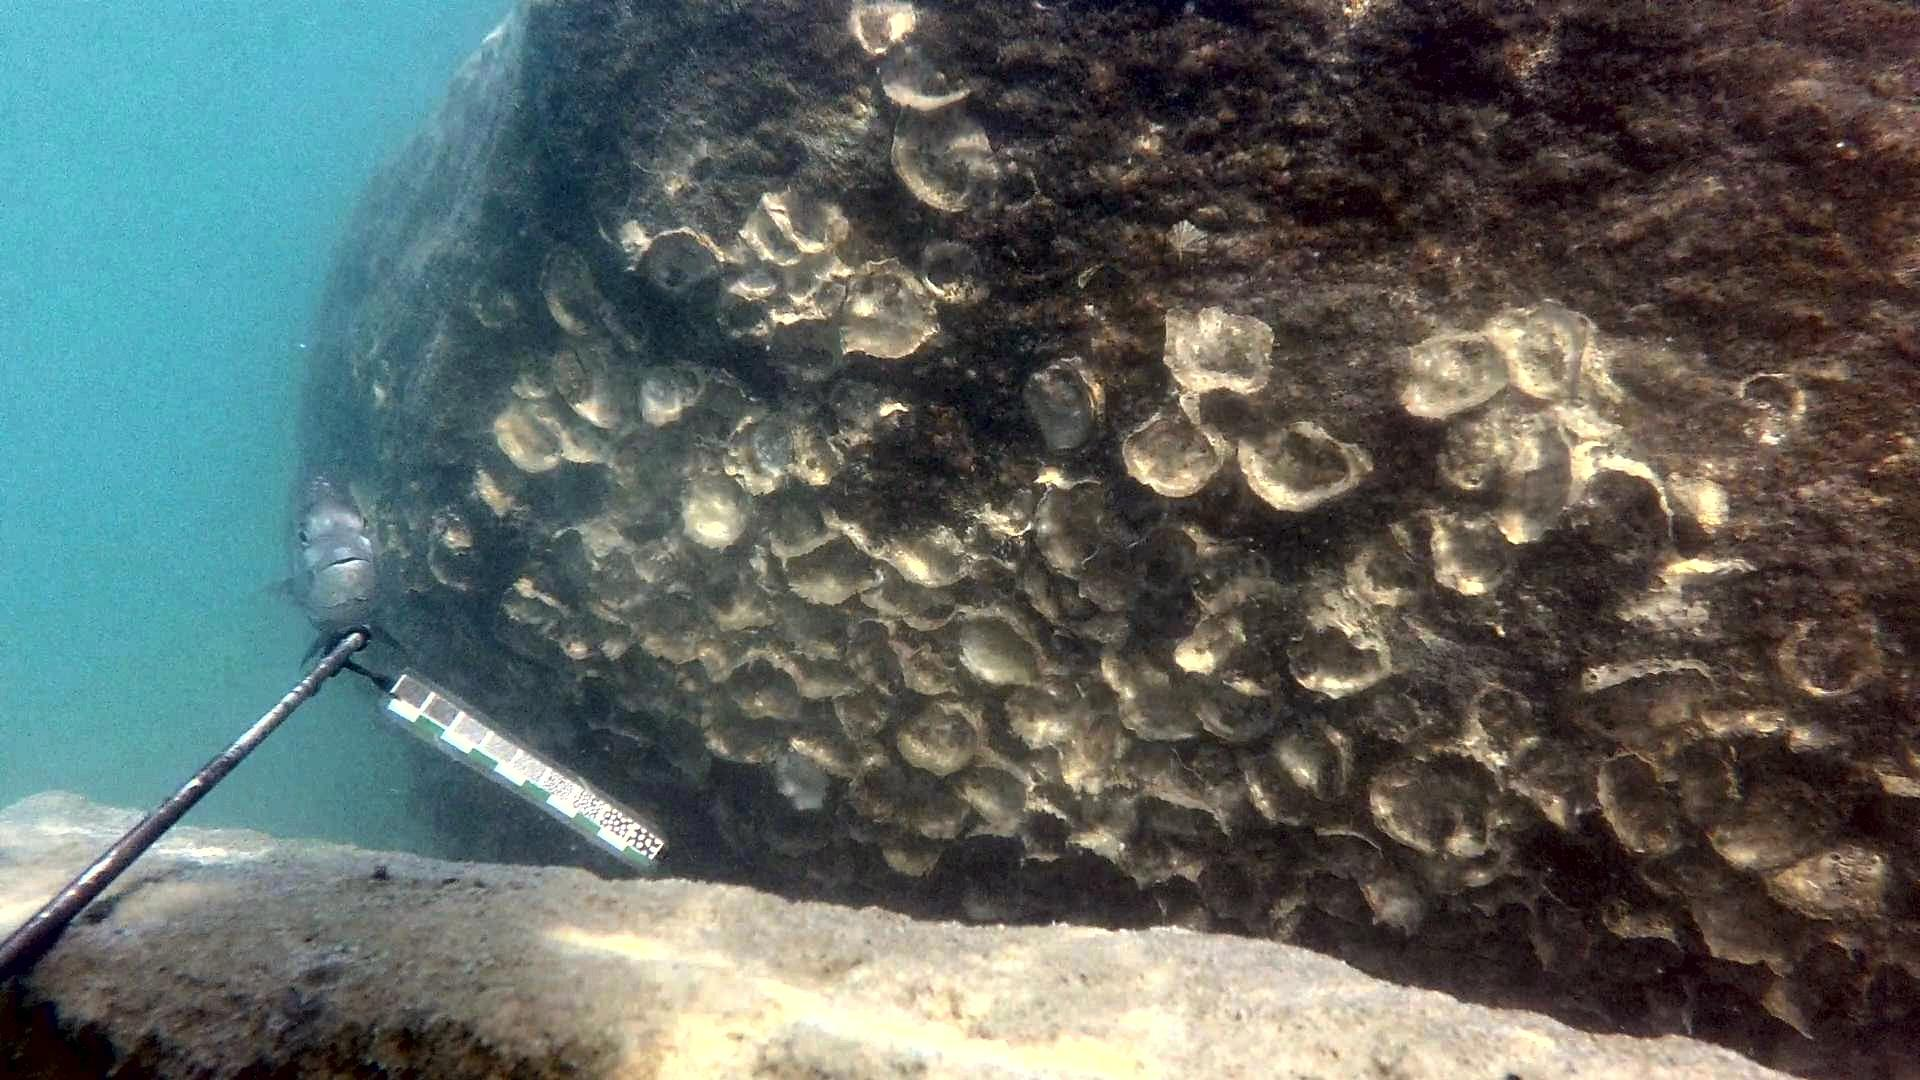acanthopagrus palmaris: (241, 446, 412, 660)
